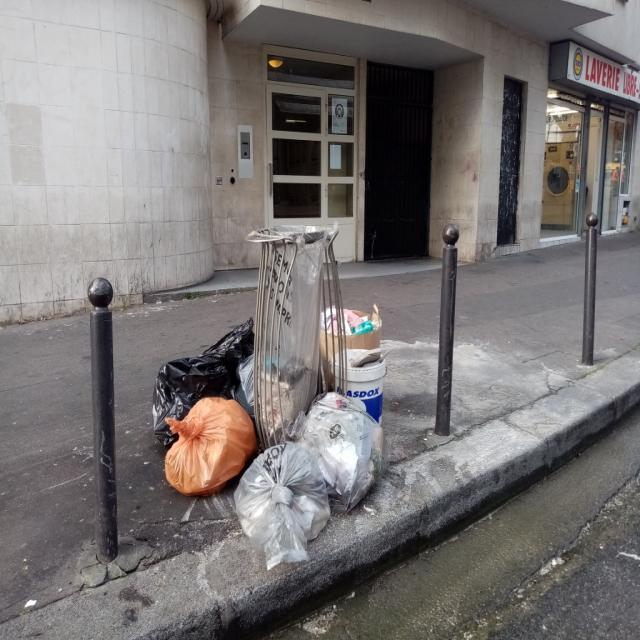garbage: (150, 188, 412, 554)
